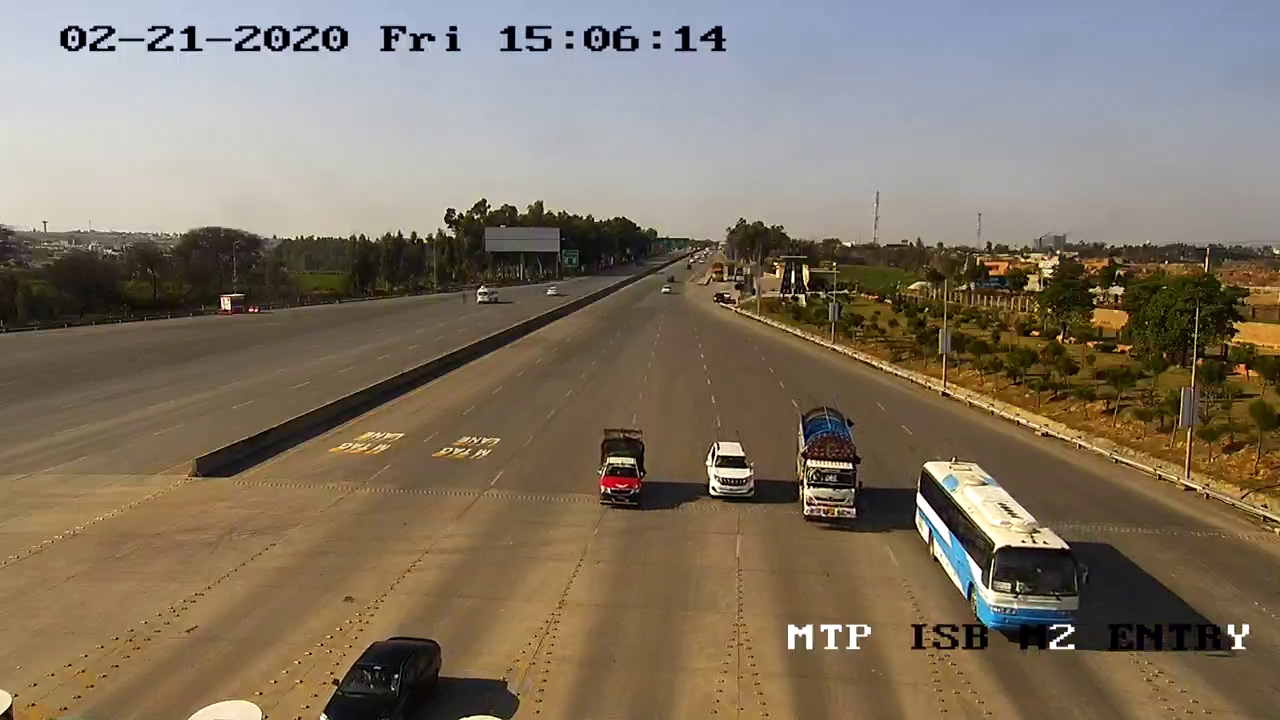f1: (695, 435, 765, 505)
f2: (586, 423, 660, 517)
f4: (900, 449, 1103, 635)
f5: (783, 401, 871, 534)
